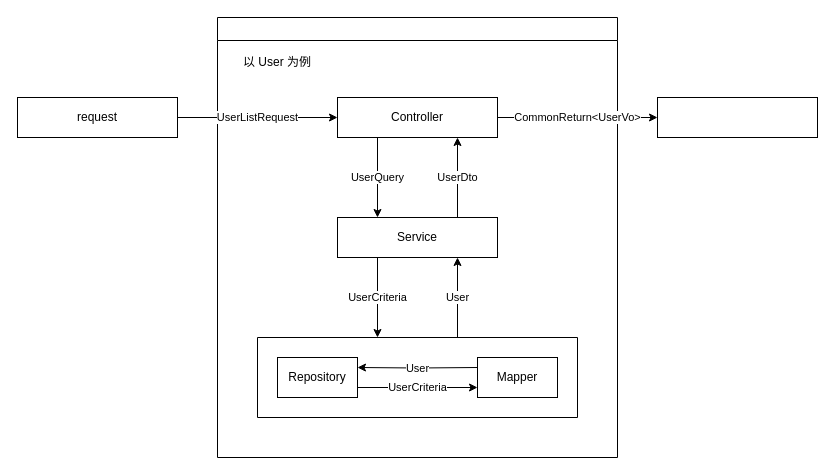
This 835x475 diagram has some shape labels left out. Here are the shapes that lost their labels. From the top down, the box of each, then its label:
(656, 96, 818, 138): response
(216, 16, 618, 458): Backend
